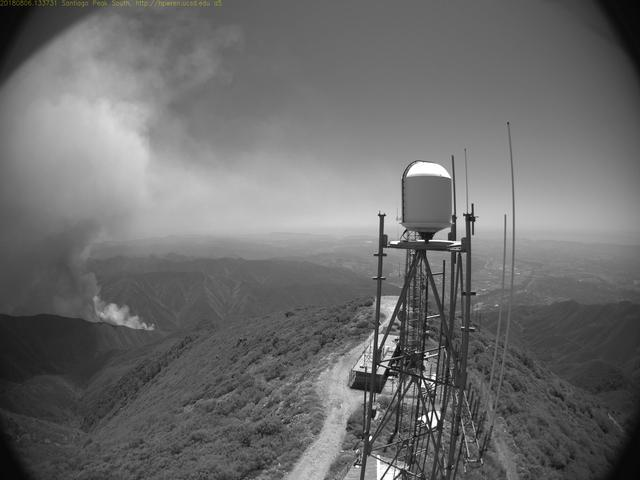smoke: (5, 81, 158, 343)
